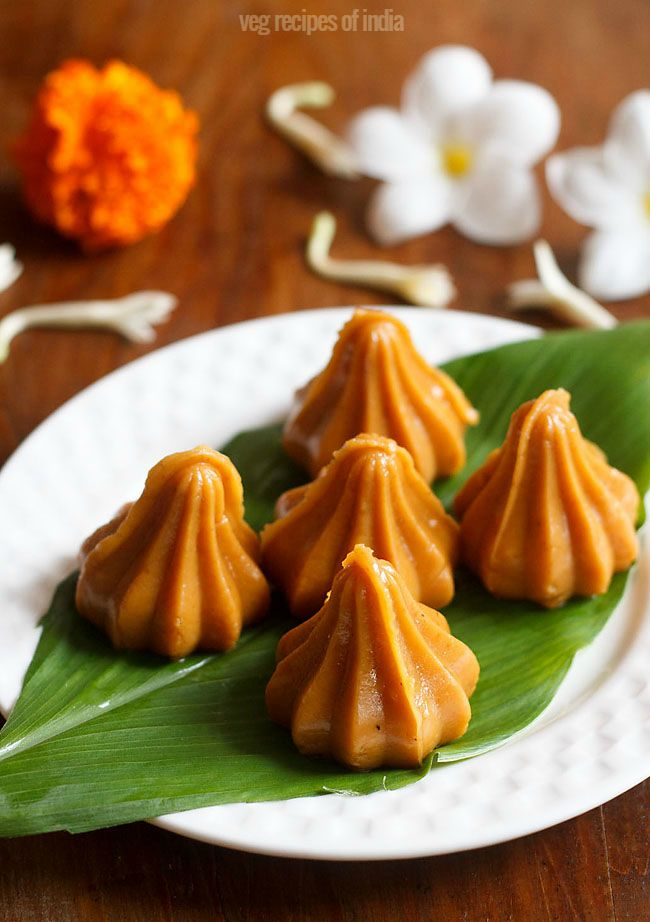modak: (259, 551, 494, 744), (103, 453, 274, 666), (265, 462, 481, 620), (481, 391, 650, 589), (303, 307, 473, 475)
